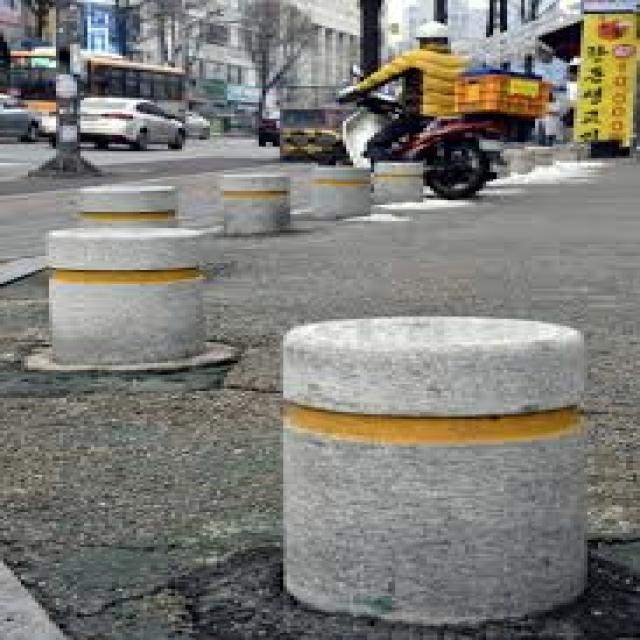bollard: (270, 298, 607, 624), (44, 216, 218, 371), (215, 169, 297, 250), (68, 178, 183, 232), (308, 147, 372, 227), (374, 159, 426, 208)
